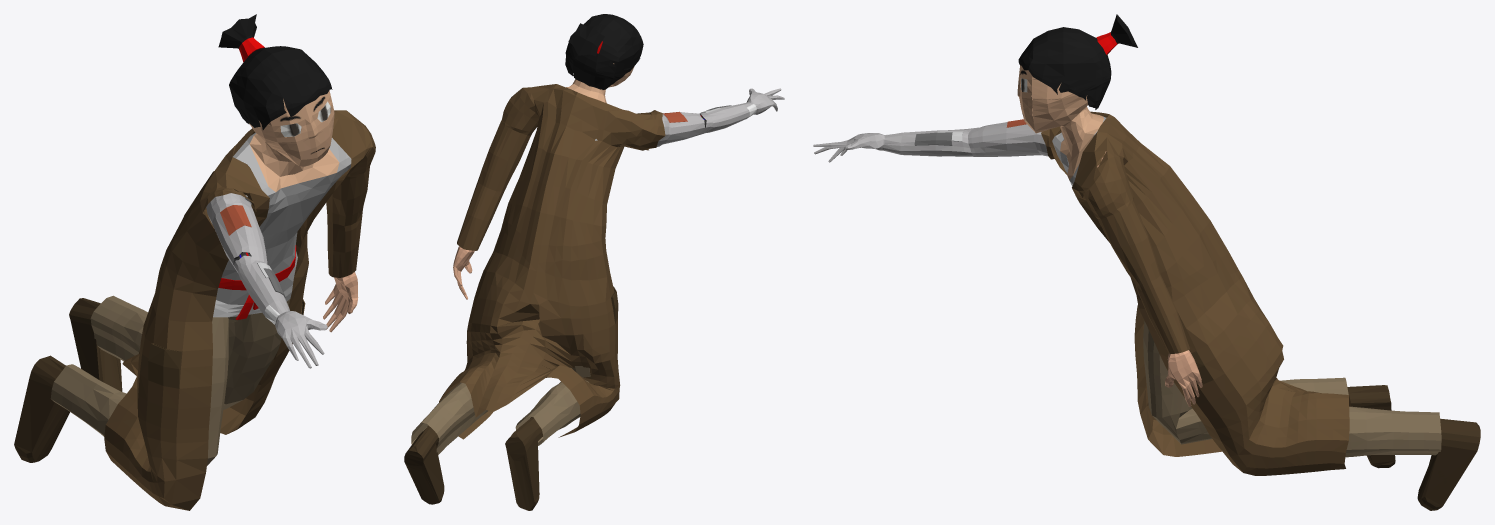
Rendered from One_Die_000043.obj.
3 views of the same model, side by side, from view 1: azimuth 30°, elevation 25°; view 2: azimuth 150°, elevation 25°; view 3: azimuth 270°, elevation 25° (orthographic). The views are drawn at different scales.
Visible parts, largest first — view 1: Hair_Cube.004; view 2: Hair_Cube.004; view 3: Hair_Cube.004.
Boxes of the visible parts, x1,y1,x2,y2 form: Hair_Cube.004: (14,14,375,510); Hair_Cube.004: (404,14,784,510); Hair_Cube.004: (813,14,1480,510).
Bounding box in the file's own units: 1.42 × 2.89 × 3.64.
